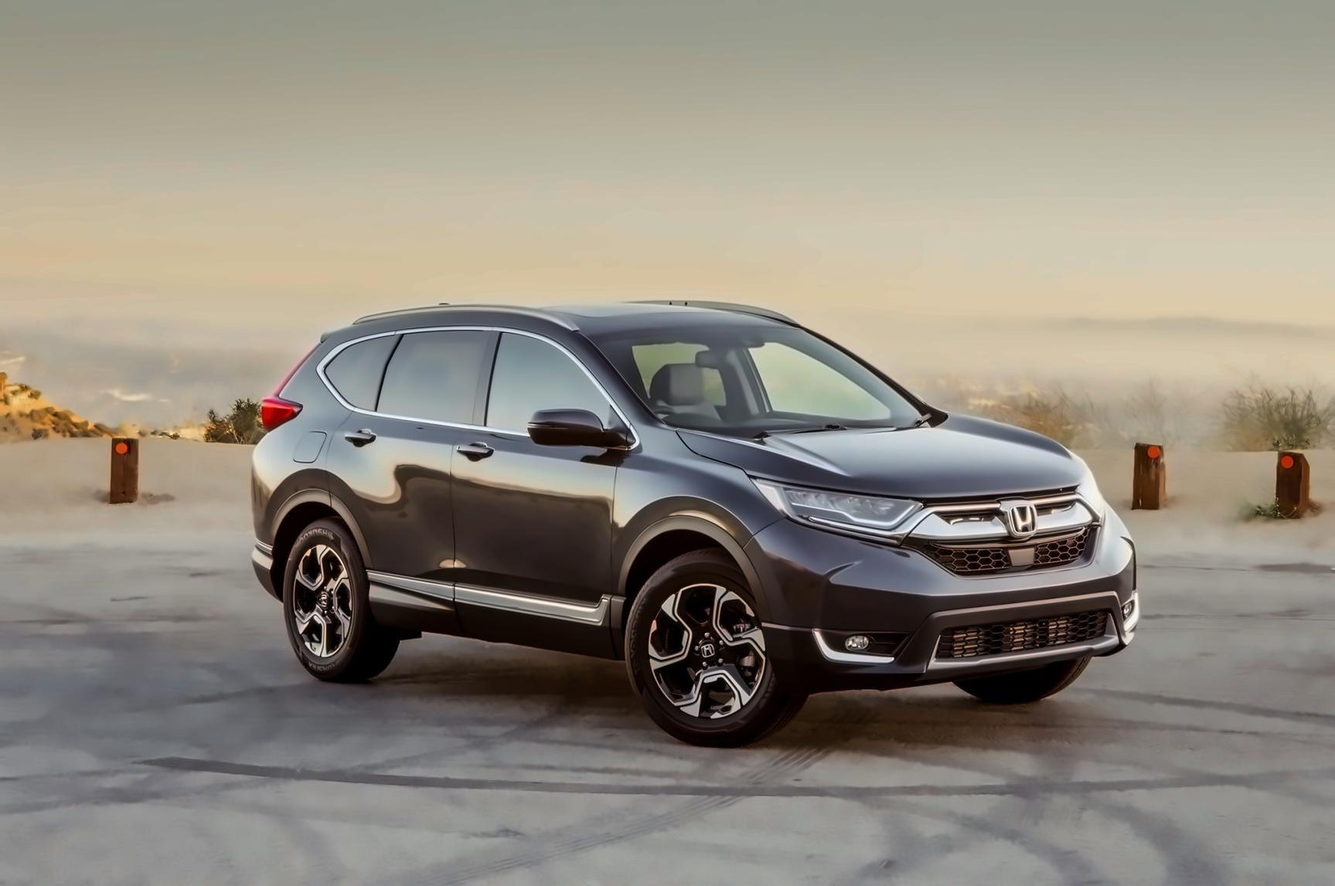Car hood: (667, 411, 1086, 501)
Driver-s door - -F-R-: (438, 301, 639, 671)
Fender - -F-R-: (602, 408, 778, 657)
Fender - -R-R-: (247, 294, 365, 550)
Front bumper: (725, 516, 1156, 698)
Headlight - -R-: (750, 470, 923, 546)
Passenger-s door - -R-R-: (324, 295, 498, 648)
Rear bumper: (227, 488, 291, 602)
Rear light - -R-: (255, 396, 302, 442)
Side bumper - -R-: (350, 567, 621, 670)
Side mirror - -R-: (521, 402, 636, 465)
